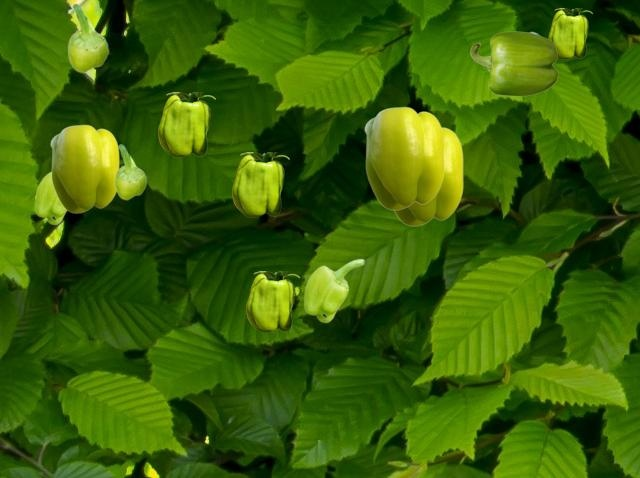bell_pepper: (364, 106, 443, 209), (393, 127, 462, 225), (50, 124, 118, 212), (470, 31, 557, 95), (303, 258, 364, 322), (232, 152, 288, 216), (158, 92, 214, 156), (246, 271, 298, 331), (67, 3, 108, 72), (548, 8, 591, 58), (114, 144, 146, 199), (34, 171, 67, 224)
